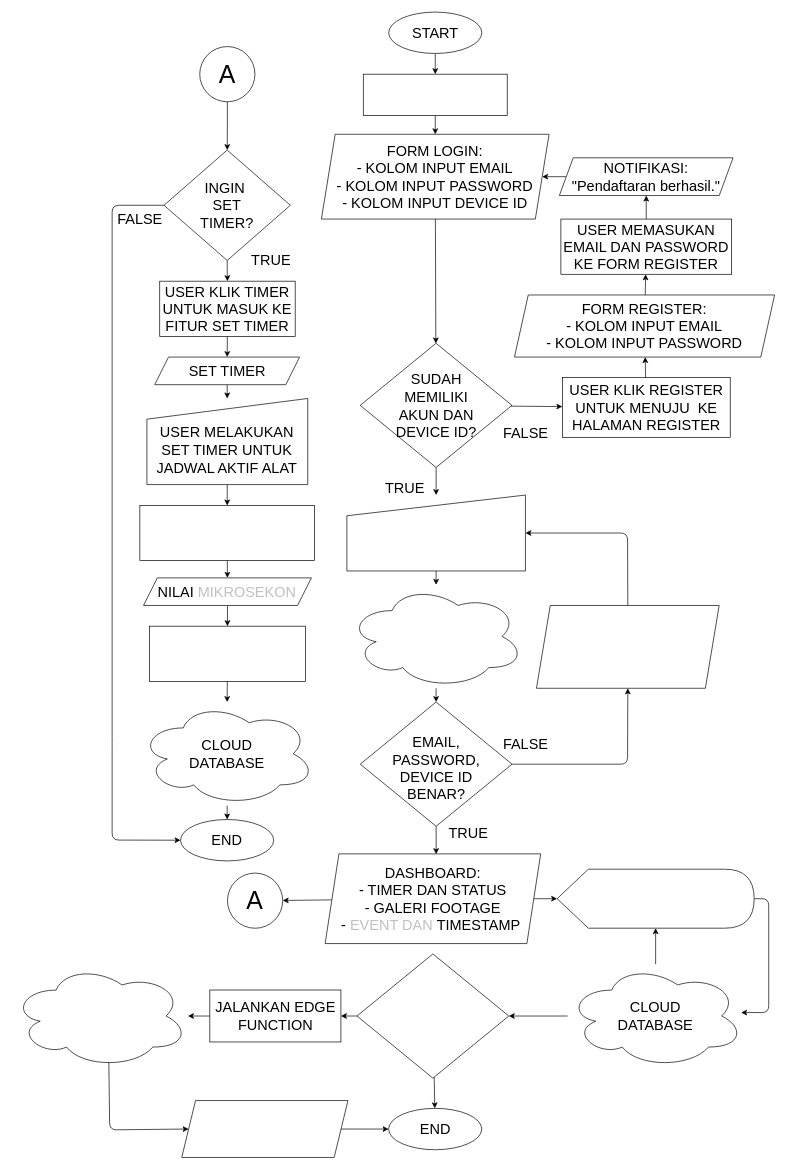
Image size: 787x1170. Some labels were removed from this diagram. The centre of each missing label's shape, as x and y in pixels:
APAKAH ADA LINK FOTO BARU?: [432,1015]
CLOUD AUTH DAN DATABASE: [435,636]
MEMPROSES KONVERSI RENTANG JADWAL KE MIKROSEKON: [226,533]
MEMPROSES PENGIRIMAN NILAI MIKROSEKON: [227,653]
NOTIFIKASI: "Login gagal. Masukkan email, password dan device id yang benar": [627,646]
NOTIFIKASI: "Perhatian ada ancaman terbaru.": [264,1128]
RESEND MESSAGING: [99,1016]
STATUS, FOOTAGE, EVENT DAN TIMESTAMP: [655,898]
USER INPUT EMAIL, PASSWORD DEVICE ID YANG SESUAI: [435,532]
USER MASUK KEDALAM APLIKASI: [435,94]
